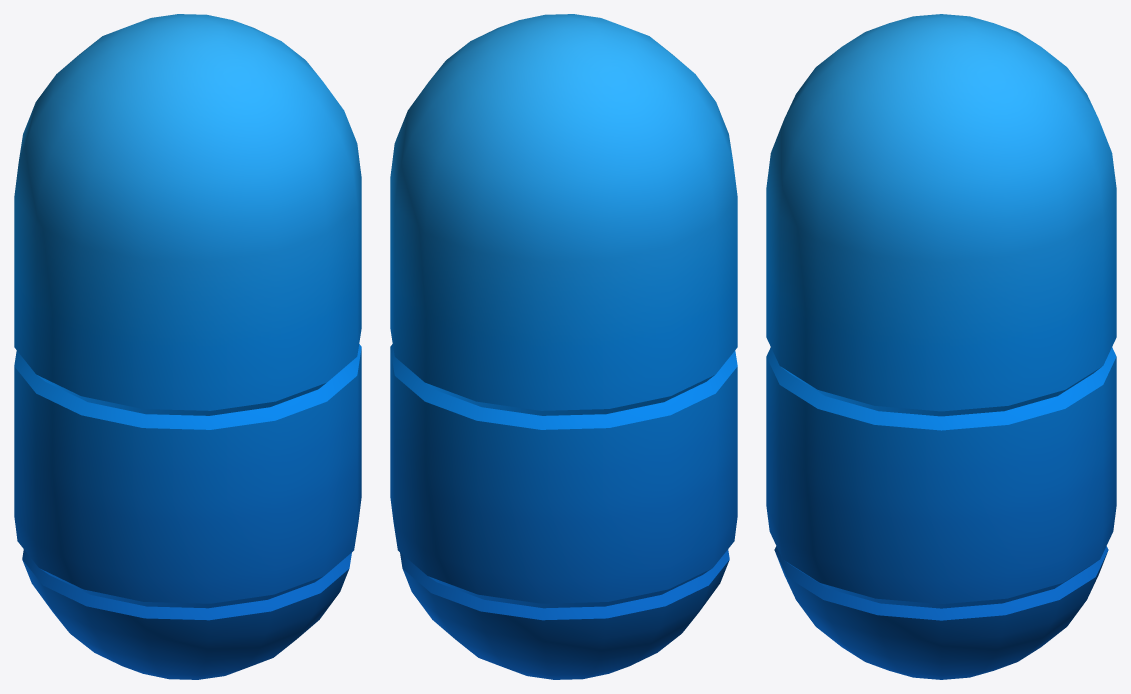
The model's file is Capsule_Body_AA_01.fbx.
3 renders of one model, left to right at view 1: azimuth 30°, elevation 25°; view 2: azimuth 150°, elevation 25°; view 3: azimuth 270°, elevation 25°, orthographic.
Visible parts, largest first — view 1: Capsule_Body_AA_01; view 2: Capsule_Body_AA_01; view 3: Capsule_Body_AA_01.
Boxes of the visible parts, x1,y1,x2,y2 form: Capsule_Body_AA_01: (14, 14, 361, 679); Capsule_Body_AA_01: (390, 14, 737, 679); Capsule_Body_AA_01: (766, 14, 1116, 679).
Size of the model in its own units: 100 by 200 by 100.
